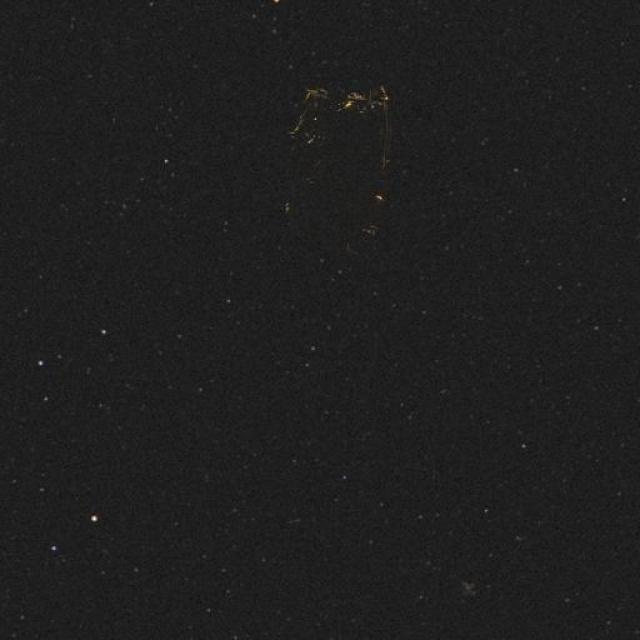lisa_pathfinder: (250, 61, 448, 243)
